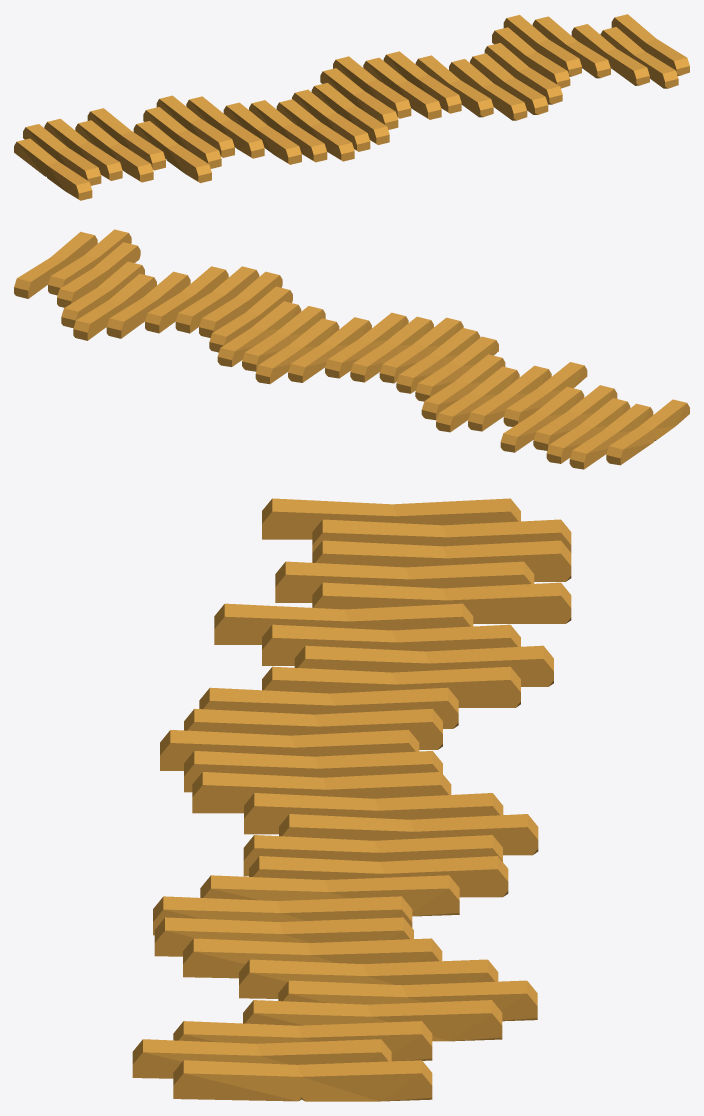
File: street.fbx
The picture shows the model from 3 angles, top to bottom: view 1: azimuth 30°, elevation 25°; view 2: azimuth 150°, elevation 25°; view 3: azimuth 270°, elevation 25°; orthographic projection. The views are drawn at different scales.
Parts seen in each view (by area): view 1: street; view 2: street; view 3: street.
Boxes of the visible parts, x1=… form: street: x1=14, y1=14, x2=689, y2=200; street: x1=14, y1=229, x2=689, y2=469; street: x1=132, y1=498, x2=571, y2=1101.
Bounding box in the file's own units: 1088 × 24.87 × 351.
